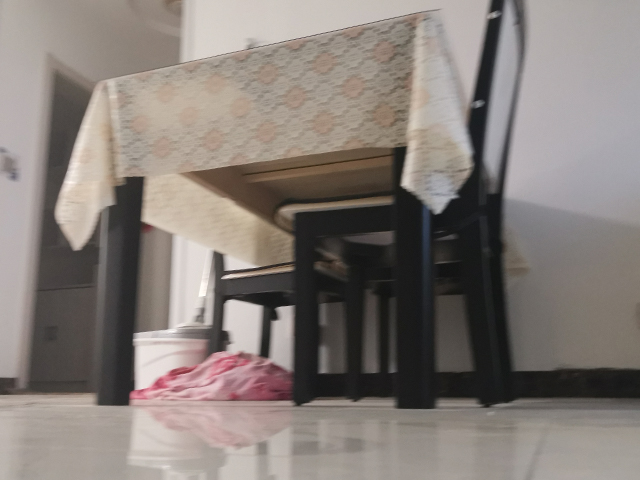cabinet: (26, 281, 97, 396)
stool: (273, 1, 528, 413), (206, 236, 355, 406)
table: (92, 1, 478, 408)
